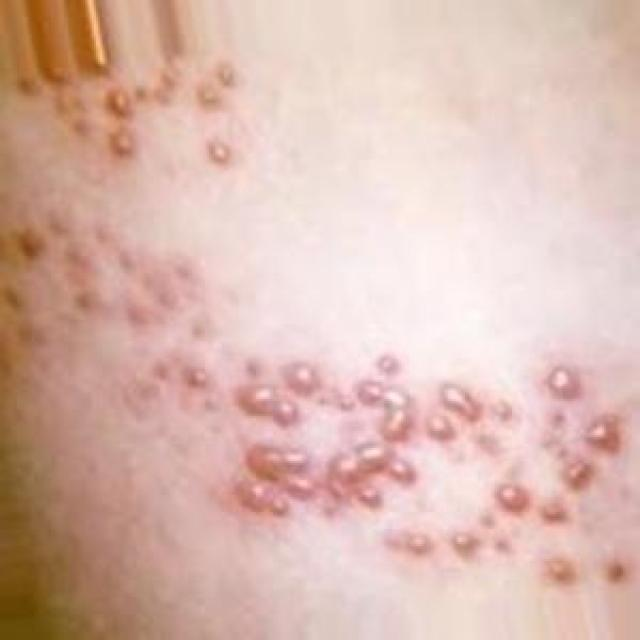Shingles: (229, 344, 631, 583), (61, 61, 239, 168)
